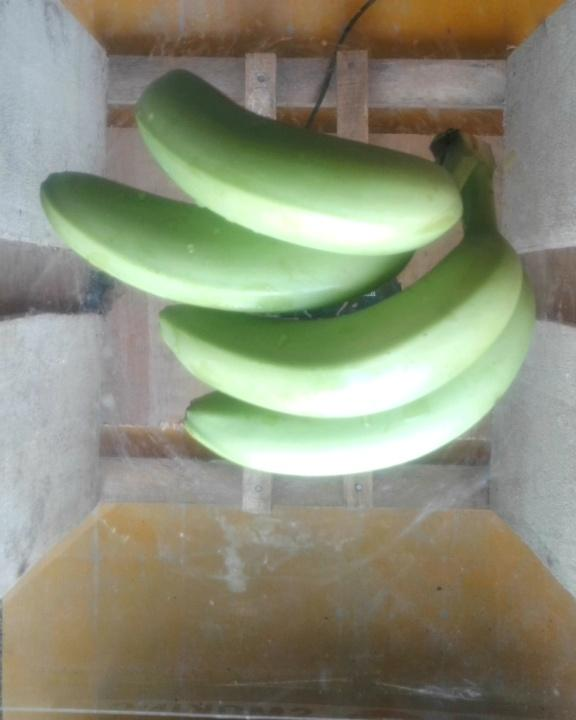SPOT: (45, 61, 576, 515)
